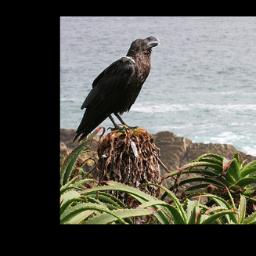Crow: (70, 35, 163, 144)
